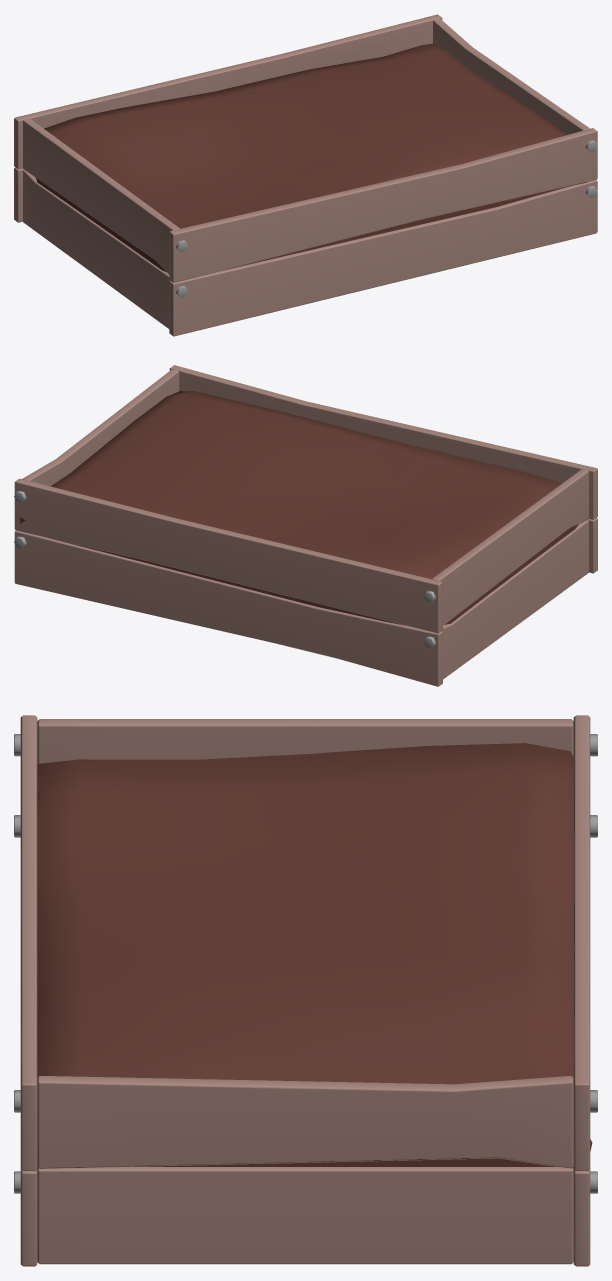
File: Farm_1_Garden_1.glb
The picture shows the model from 3 angles, top to bottom: view 1: azimuth 30°, elevation 25°; view 2: azimuth 150°, elevation 25°; view 3: azimuth 270°, elevation 25°; orthographic projection. The views are drawn at different scales.
Parts seen in each view (by area): view 1: Farm_1_Garden_1; view 2: Farm_1_Garden_1; view 3: Farm_1_Garden_1.
Part boxes in pixels (x1,y1,x2,y2): Farm_1_Garden_1: (14,14,597,336); Farm_1_Garden_1: (14,365,597,686); Farm_1_Garden_1: (14,715,597,1266).
Bounding box in the file's own units: 2.53 × 0.5859 × 1.69.
1 material, 1 textured.
